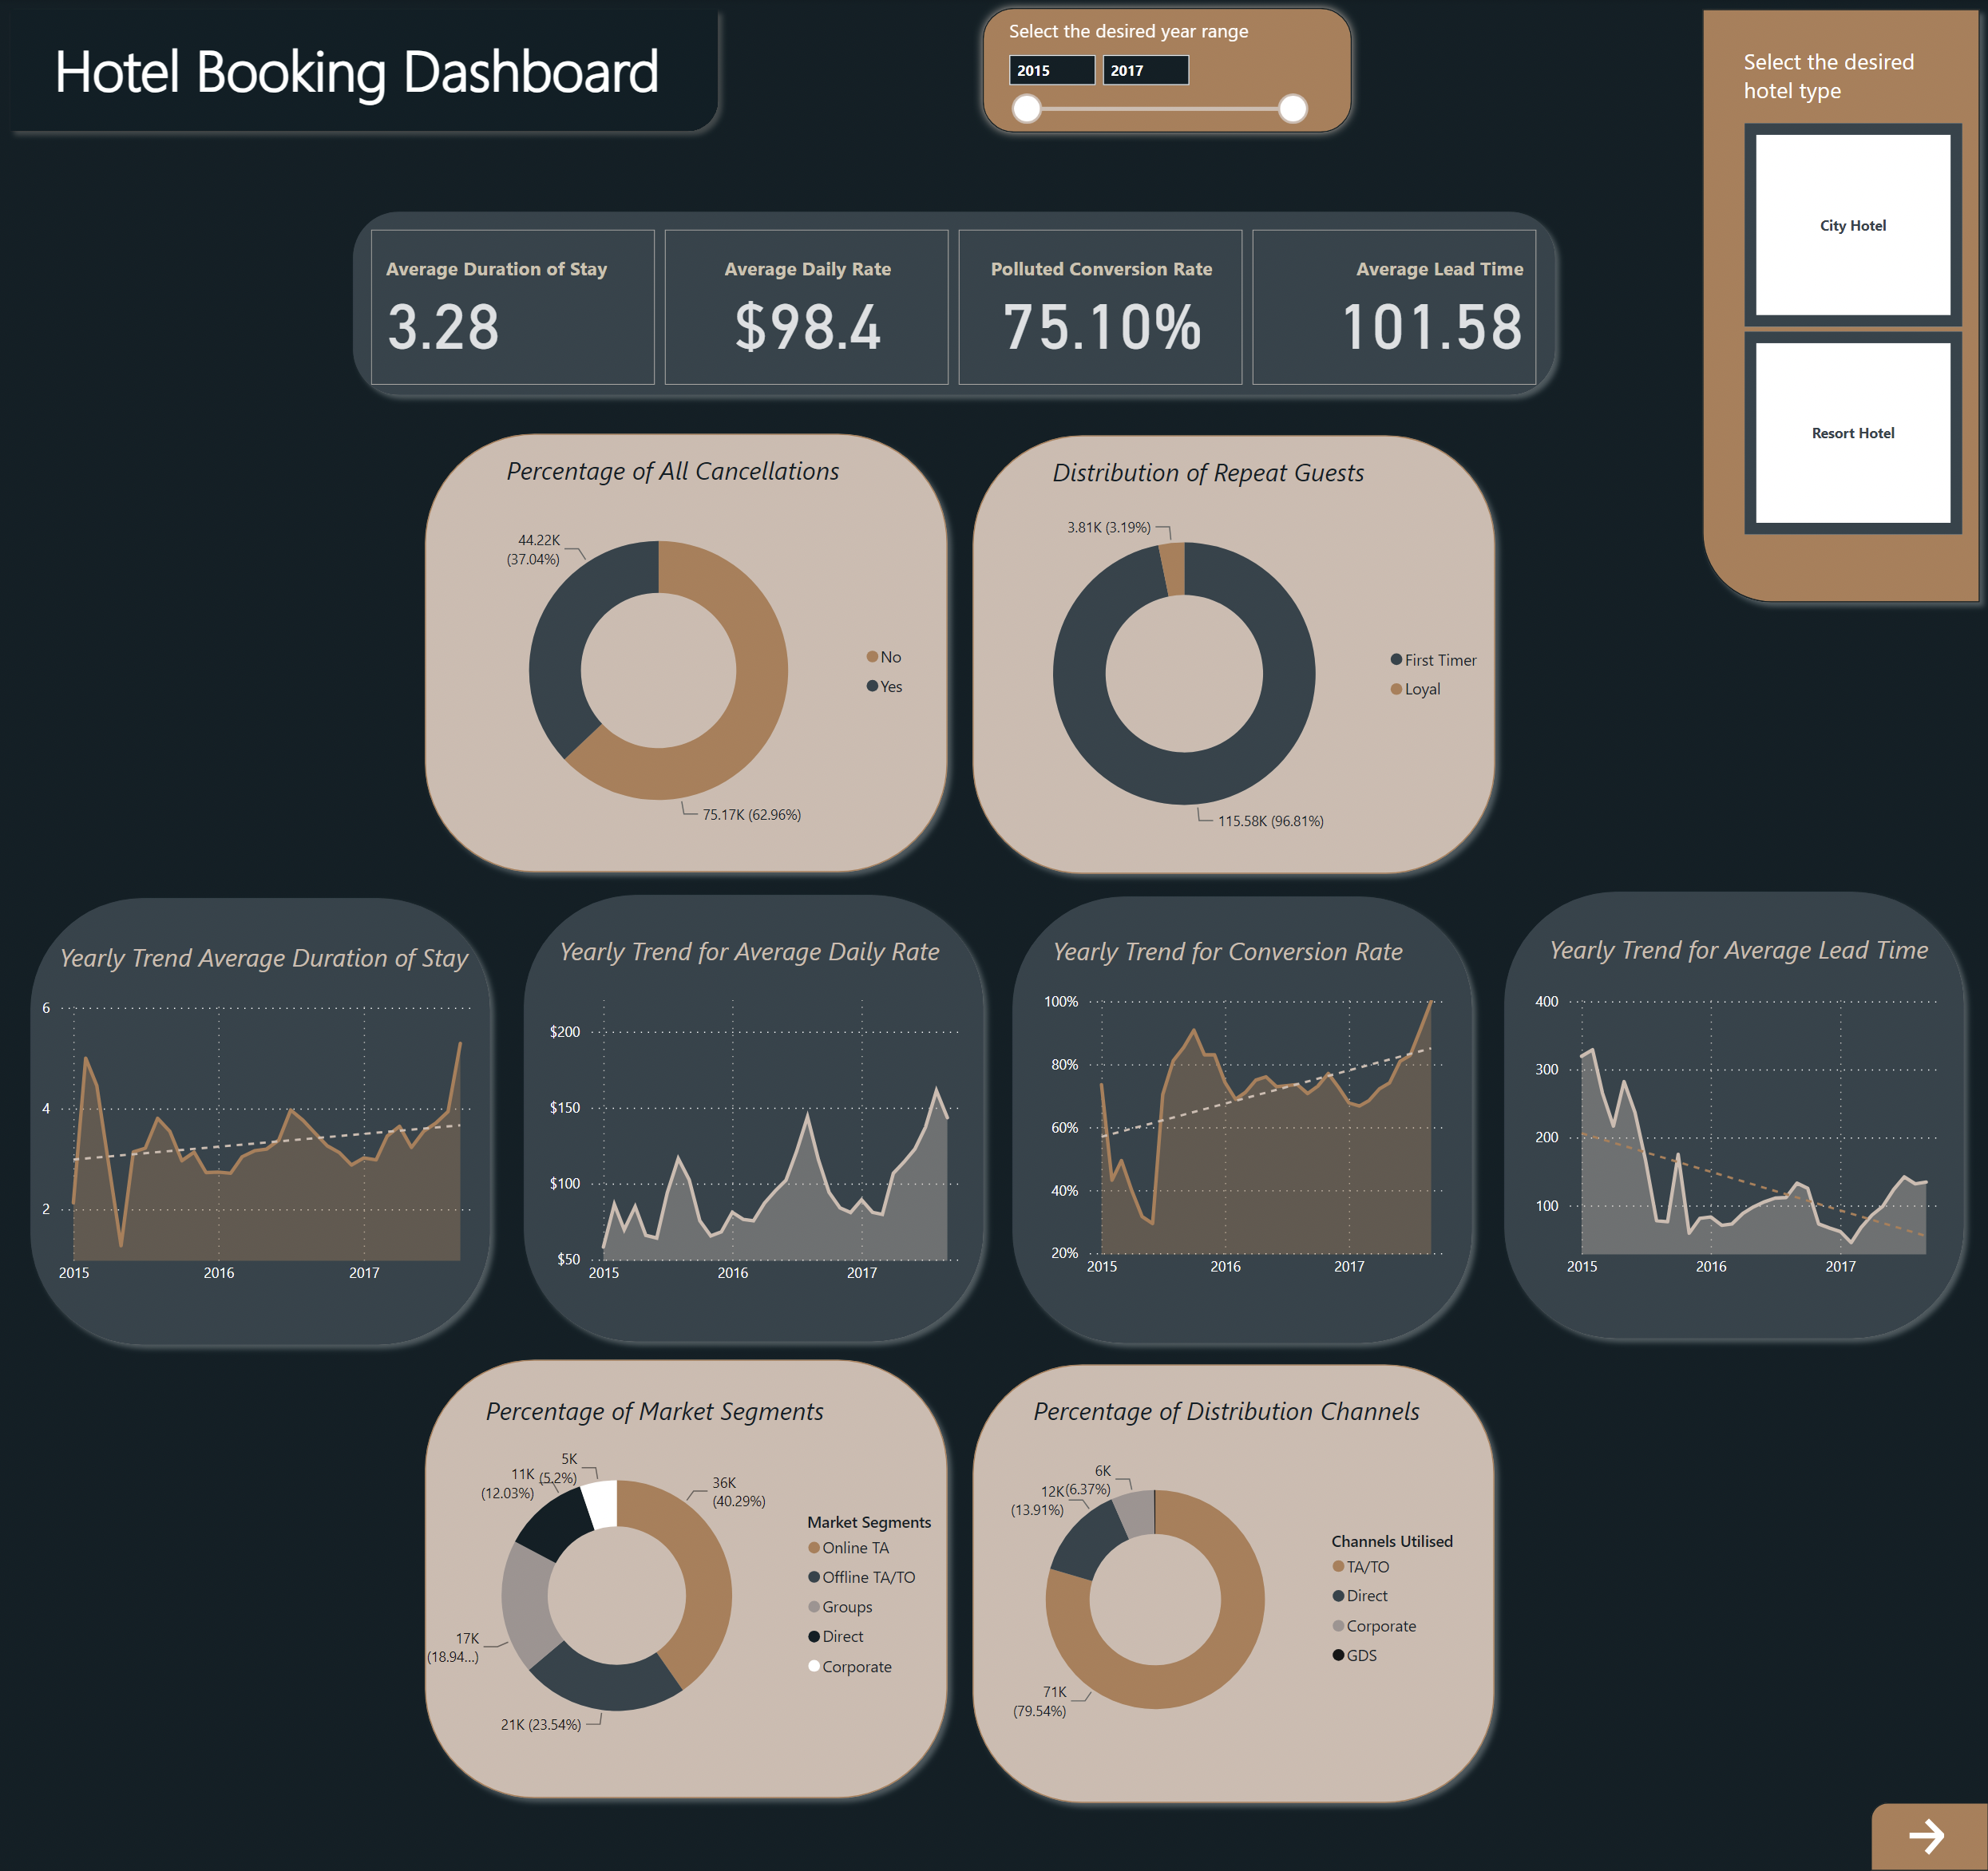

The dashboard page shown, as its layout file describes it:
{"tool":"powerbi","page":{"name":"1st Page - Main Dashboard","canvas":[1700,1600],"ordinal":0},"visuals":[{"type":"shape","box":[832.1,0,331.5,122.8],"z":0},{"type":"shape","box":[0,0,623.4,122.8],"z":1000},{"type":"shape","box":[1445.9,0,255.1,525.1],"z":2000},{"type":"shape","box":[354.3,362.3,464.5,392.8],"z":3000},{"type":"textbox","box":[42.3,21.8,536.1,77.7],"z":4000},{"type":"slicer","title":"Select the desired year range","fields":{"Values":["Calendar.Date.Variation.Date Hierarchy.Year"]},"box":[849.8,38.2,276.9,70.9],"z":5000},{"type":"donutChart","fields":{"Y":["CountNonNull(HotelBookings.is_canceled)"],"Category":["HotelBookings.is_canceled"]},"box":[382.6,399.7,403.8,349.2],"z":6000},{"type":"textbox","box":[428.3,383.3,316.5,45],"z":7000},{"type":"shape","box":[822.6,364.3,464.5,392.8],"z":8000},{"type":"textbox","box":[894.8,384.7,335.5,51.8],"z":9000},{"type":"shape","box":[439.2,757,410.6,399.7],"z":10000},{"type":"areaChart","fields":{"Category":["Calendar.Date.Variation.Date Hierarchy.Year","Calendar.Date.Variation.Date Hierarchy.Month"],"Y":["DAX Measures.Average Daily Rate"]},"box":[465.1,843,362.8,264.6],"z":11000},{"type":"textbox","box":[473.3,793.9,364.2,43.6],"z":12000},{"type":"shape","box":[857,758.4,410.6,399.7],"z":13000},{"type":"areaChart","fields":{"Y":["DAX Measures.Conversion Rate"],"Category":["Calendar.Date.Variation.Date Hierarchy.Year","Calendar.Date.Variation.Date Hierarchy.Month"]},"box":[887,843,354.6,259.2],"z":14000},{"type":"shape","box":[1276.7,754.3,410.6,399.7],"z":15000},{"type":"areaChart","fields":{"Category":["Calendar.Date.Variation.Date Hierarchy.Year","Calendar.Date.Variation.Date Hierarchy.Month"],"Y":["DAX Measures.Average Lead Time"]},"box":[1306.7,843,357.4,259.2],"z":16000},{"type":"textbox","box":[895.2,793.9,338.3,43.6],"z":17000},{"type":"textbox","box":[1319,792.5,368.3,46.4],"z":18000},{"type":"shape","box":[354,1153.8,464.5,392.8],"z":19000},{"type":"donutChart","fields":{"Y":["DAX Measures.Total Sales"],"Category":["HotelBookings.market_segment"]},"box":[360.1,1178.5,461,372.4],"z":20000},{"type":"textbox","box":[410.6,1186.7,315.1,45],"z":21000},{"type":"shape","box":[822,1158.1,463.8,392.8],"z":22000},{"type":"donutChart","fields":{"Y":["DAX Measures.Total Sales"],"Category":["HotelBookings.distribution_channel"]},"box":[832.1,1220.8,435.1,294.6],"z":23000},{"type":"textbox","box":[878.4,1186.7,354.6,45],"z":24000},{"type":"shape","box":[293.3,173.2,1044.8,174.6],"z":25000},{"type":"cardVisual","fields":{"Data":["DAX Measures.Average Duration of Stay","DAX Measures.Average Daily Rate","DAX Measures.Conversion Rate","DAX Measures.Average Lead Time"]},"box":[312.4,192.3,1008,143.2],"z":26000},{"type":"shape","box":[1598.6,1541.3,100.9,58.7],"z":27000},{"type":"actionButton","box":[1625.9,1550.9,45,39.6],"z":28000},{"type":"slicer","fields":{"Values":["HotelBookings.hotel"]},"box":[1465,99.6,236,365.6],"z":29000},{"type":"donutChart","fields":{"Y":["CountNonNull(HotelBookings.is_repeated_guest)"],"Category":["HotelBookings.is_repeated_guest"]},"box":[832.7,397.6,444.7,360.1],"z":30000},{"type":"textbox","box":[1485.4,35.5,185.5,64.1],"z":31000},{"type":"textbox","box":[858,10.9,268.7,46.4],"z":32000},{"type":"shape","box":[17.7,759.8,410.6,399.7],"z":33000},{"type":"textbox","box":[46.4,799.3,381.9,43.6],"z":34000},{"type":"areaChart","fields":{"Category":["Calendar.Date.Variation.Date Hierarchy.Year","Calendar.Date.Variation.Date Hierarchy.Month"],"Y":["DAX Measures.Average Duration of Stay"]},"box":[31.4,848.4,380.6,259.2],"z":35000}]}

Visuals, with their boxes in screenshot pixels (x1, y1, x2, y2), scaled from the page's 1700x1600 canvas onto the 1988x1871 screenshot:
shape: 973/0/1360/144
shape: 0/0/729/144
shape: 1691/0/1987/614
shape: 414/424/957/883
textbox: 50/26/676/117
"Select the desired year range" slicer: 994/45/1317/128
donutChart - CountNonNull(HotelBookings.is_canceled) x HotelBookings.is_canceled: 447/468/920/876
textbox: 501/449/871/500
shape: 962/426/1505/885
textbox: 1047/450/1439/510
shape: 513/885/994/1353
areaChart - Calendar.Date.Variation.Date Hierarchy.Year x Calendar.Date.Variation.Date Hierarchy.Month: 544/986/968/1295
textbox: 553/928/980/979
shape: 1002/887/1483/1355
areaChart - DAX Measures.Conversion Rate x Calendar.Date.Variation.Date Hierarchy.Year: 1037/986/1452/1289
shape: 1493/882/1973/1350
areaChart - Calendar.Date.Variation.Date Hierarchy.Year x Calendar.Date.Variation.Date Hierarchy.Month: 1528/986/1946/1289
textbox: 1047/928/1443/979
textbox: 1542/927/1973/981
shape: 414/1349/957/1809
donutChart - DAX Measures.Total Sales x HotelBookings.market_segment: 421/1379/960/1814
textbox: 480/1388/849/1440
shape: 961/1355/1503/1814
donutChart - DAX Measures.Total Sales x HotelBookings.distribution_channel: 973/1427/1482/1772
textbox: 1028/1388/1442/1440
shape: 343/203/1565/407
cardVisual - DAX Measures.Average Duration of Stay x DAX Measures.Average Daily Rate: 366/225/1544/393
shape: 1869/1802/1987/1870
actionButton: 1901/1814/1954/1860
slicer - HotelBookings.hotel: 1713/117/1987/544
donutChart - CountNonNull(HotelBookings.is_repeated_guest) x HotelBookings.is_repeated_guest: 974/465/1494/886
textbox: 1737/42/1954/117
textbox: 1004/13/1317/67
shape: 21/888/501/1356
textbox: 54/935/501/986
areaChart - Calendar.Date.Variation.Date Hierarchy.Year x Calendar.Date.Variation.Date Hierarchy.Month: 37/992/481/1295
